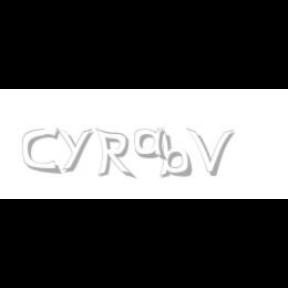C: (22, 128, 60, 174)
R: (95, 128, 133, 180)
V: (186, 128, 234, 176)
a: (134, 128, 172, 160)
b: (157, 128, 195, 178)
y: (56, 128, 96, 172)
